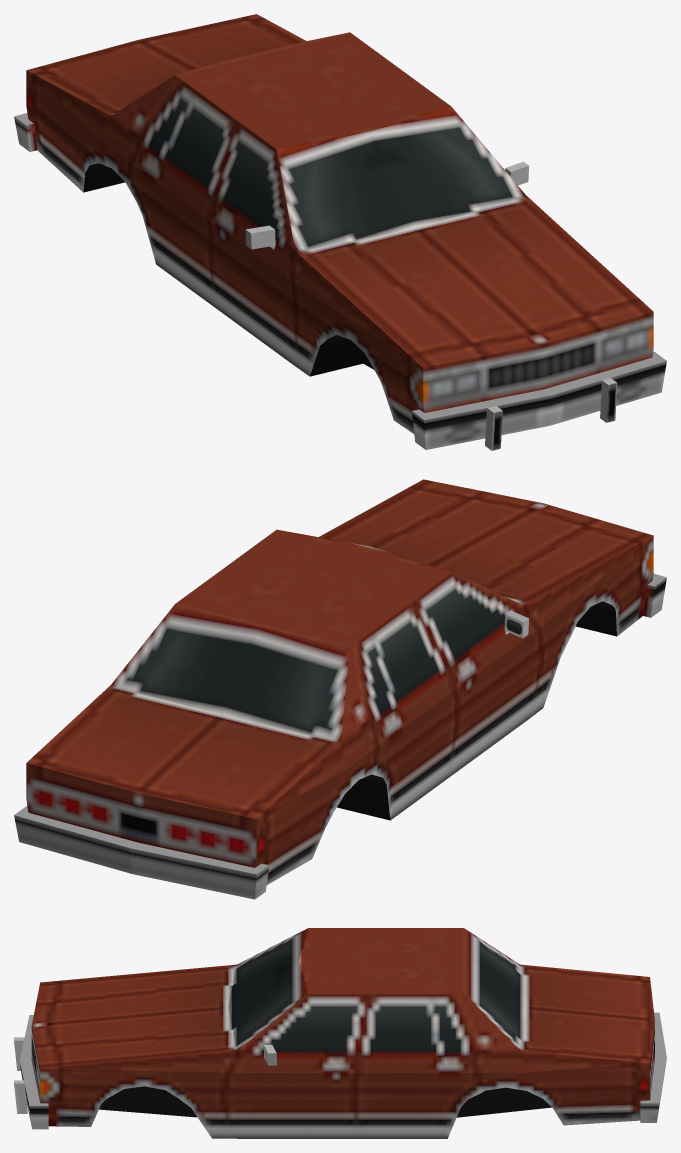
Rendered from Car5.obj.
3 views of the same model, one above another, from view 1: azimuth 30°, elevation 25°; view 2: azimuth 150°, elevation 25°; view 3: azimuth 270°, elevation 25° (orthographic). The views are drawn at different scales.
Visible parts, largest first — view 1: Car5; view 2: Car5; view 3: Car5.
Part boxes in pixels (x1=…): Car5: x1=14, y1=14, x2=666, y2=450; Car5: x1=14, y1=479, x2=666, y2=899; Car5: x1=14, y1=928, x2=666, y2=1138.
Size of the model in its own units: 2.78 by 1.67 by 7.37.
1 material, 1 textured.
